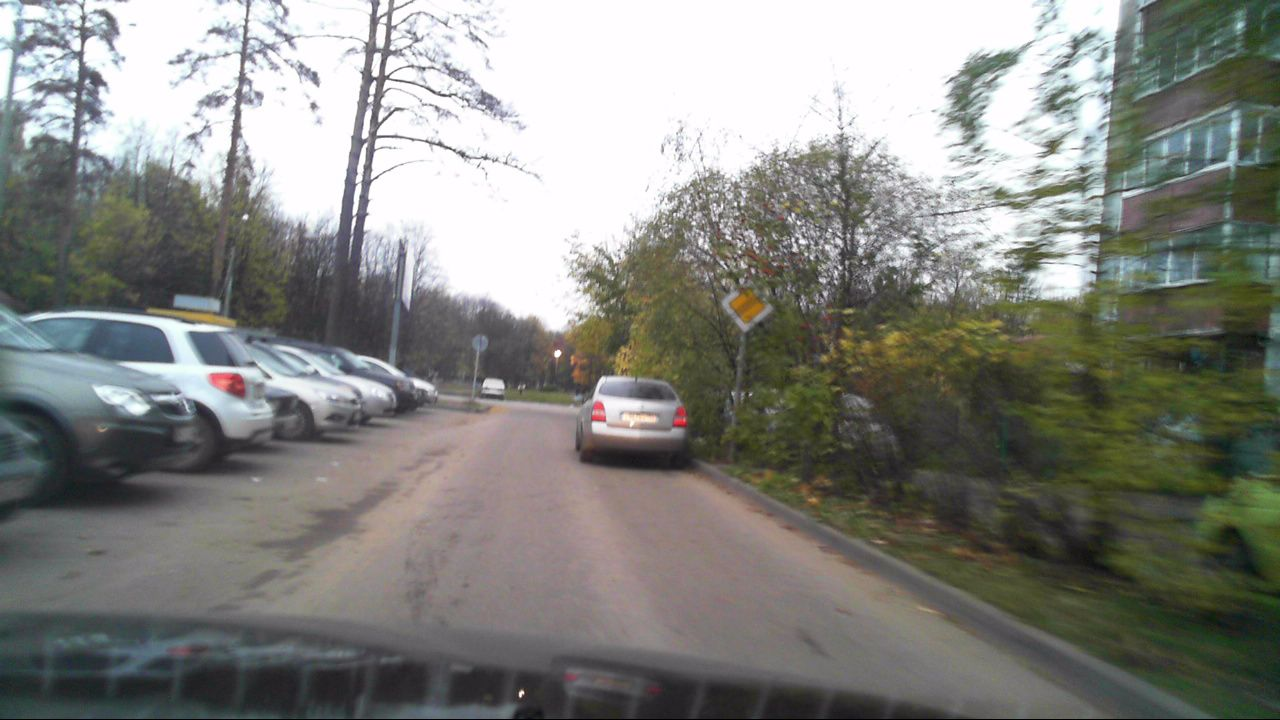main road: (718, 280, 774, 331)
